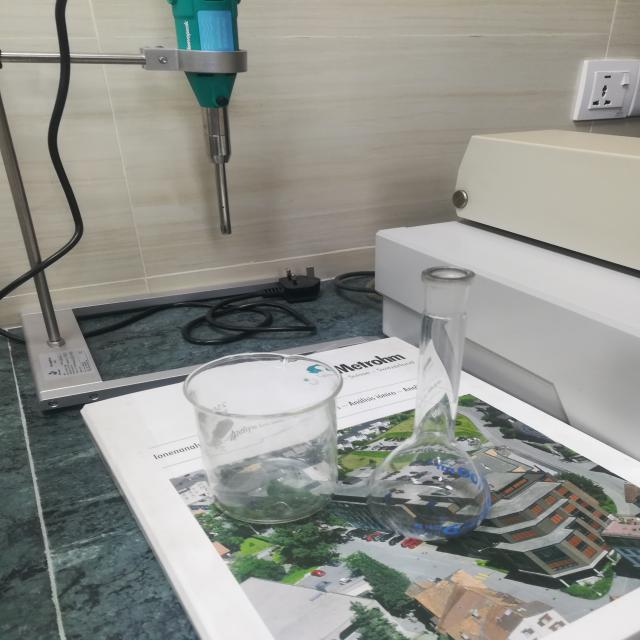Beaker: (160, 336, 354, 536)
Volumetric_Flask: (370, 254, 520, 555)
